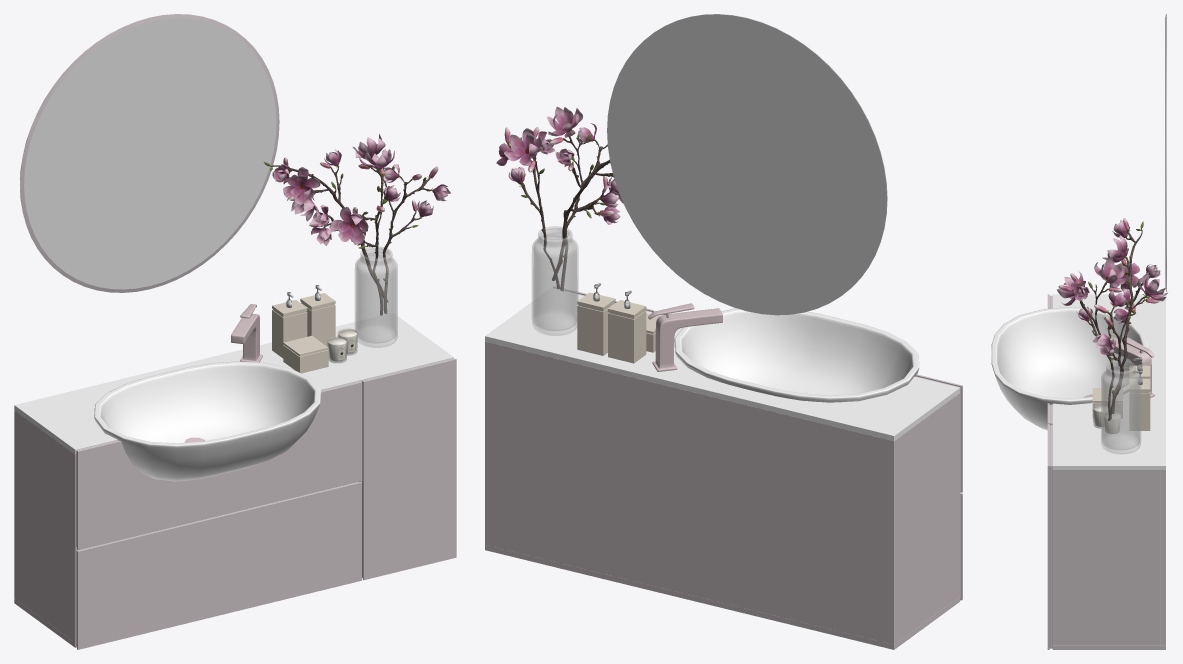
File: lavabo.glb
3 renders of one model, left to right at view 1: azimuth 30°, elevation 25°; view 2: azimuth 150°, elevation 25°; view 3: azimuth 270°, elevation 25°, orthographic. The views are drawn at different scales.
Visible parts, largest first — view 1: Material2 (×4); view 2: Material2 (×4); view 3: Material2 (×5).
Part boxes in pixels (x1=…): Material2 (×4): x1=14, y1=14, x2=456, y2=649; Material2 (×4): x1=485, y1=14, x2=962, y2=649; Material2 (×5): x1=991, y1=14, x2=1167, y2=649.
Size of the model in its own units: 49.97 by 65.82 by 20.59.
9 materials, 9 textured.
